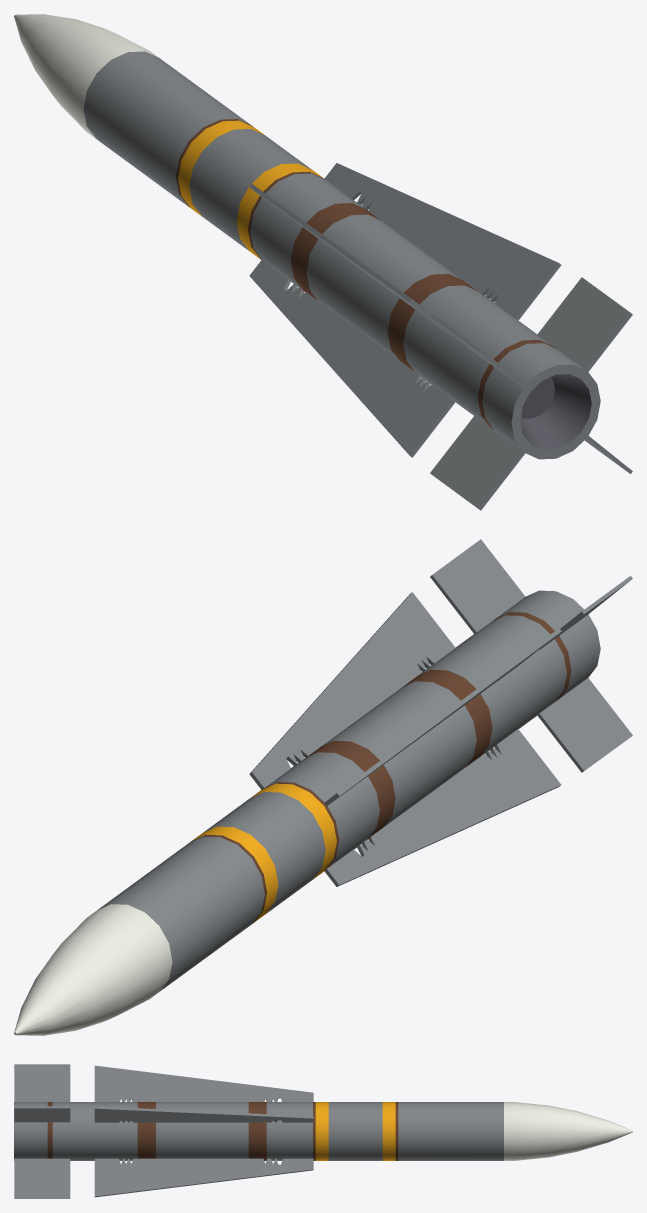
Rendered from aim54.glb.
3 views of the same model, one above another, from view 1: azimuth 30°, elevation 25°; view 2: azimuth 150°, elevation 25°; view 3: azimuth 270°, elevation 25° (orthographic). The views are drawn at different scales.
Parts seen in each view (by area): view 1: aim54; view 2: aim54; view 3: aim54.
Boxes of the visible parts, x1,y1,x2,y2 form: aim54: (14,14,632,510); aim54: (14,539,632,1035); aim54: (14,1064,632,1198).
Size of the model in its own units: 0.6608 by 0.6608 by 4.01.
